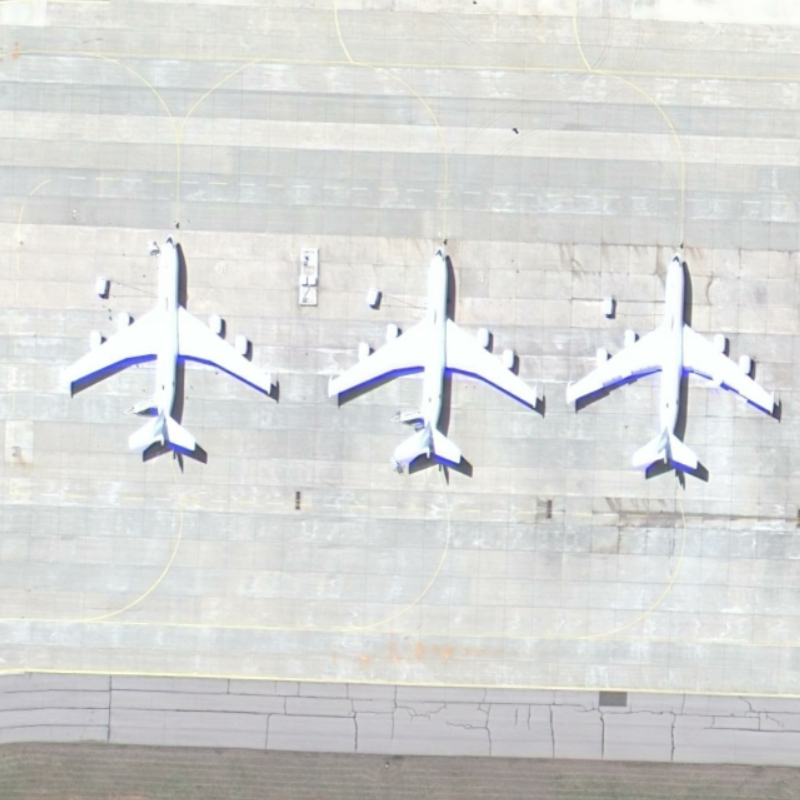A11: (324, 244, 551, 483), (559, 246, 784, 485), (58, 230, 278, 468)
